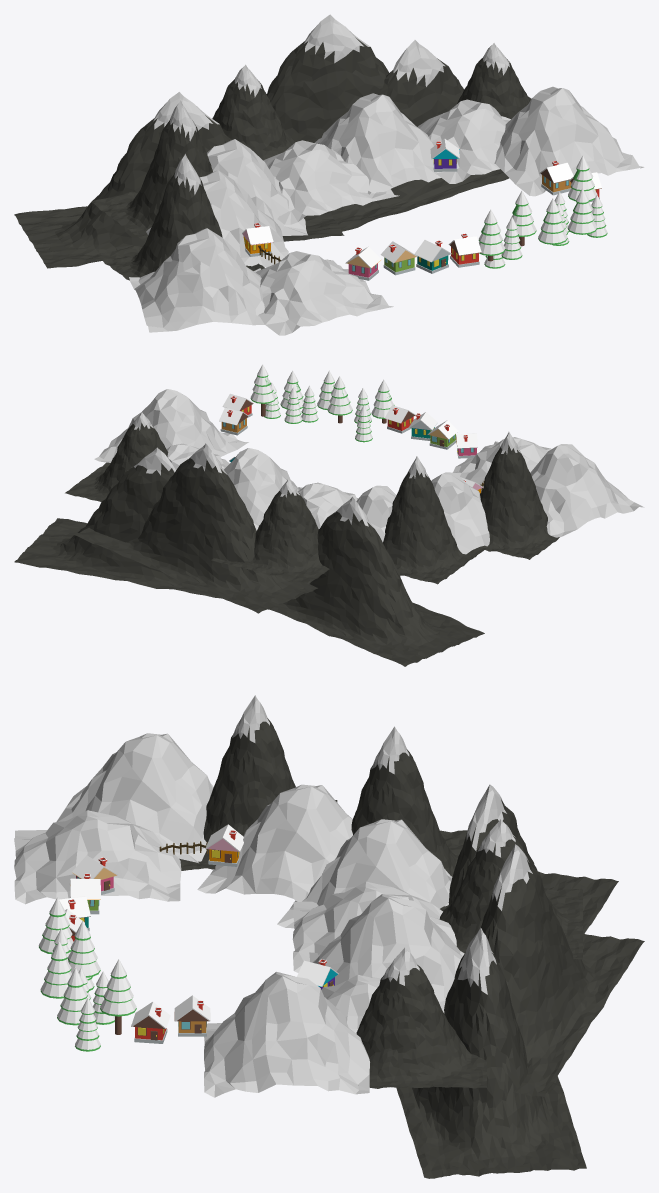
Rendered from Map_01.glb.
The picture shows the model from 3 angles, top to bottom: view 1: azimuth 30°, elevation 25°; view 2: azimuth 150°, elevation 25°; view 3: azimuth 270°, elevation 25°; orthographic projection. The views are drawn at different scales.
Visible parts, largest first — view 1: Plane.005, Plane.011, Plane.001, Plane.007, Plane.008, Plane.033, Plane.009, Plane.032, Plane.010, Plane.035, Plane.002, Plane.034 (+10 smaller); view 2: Plane.001, Plane.005, Plane.008, Plane.035, Plane.010, Plane.011, Plane.034, Plane.007, Plane.006, Plane.004, Plane.033, Plane.009 (+8 smaller); view 3: Plane.008, Plane.001, Plane.007, Plane.004, Plane.009, Plane.011, Plane.006, Plane.033, Plane.003, Plane.010, Plane.035, Plane.034 (+9 smaller).
Boxes of the visible parts, x1,y1,x2,y2 form: Plane.005: (14,92,344,268); Plane.011: (129,228,264,332); Plane.001: (266,14,388,142); Plane.007: (494,86,644,196); Plane.008: (330,40,508,231); Plane.033: (314,93,440,194); Plane.009: (256,251,393,335); Plane.032: (263,140,399,224); Plane.010: (95,154,264,280); Plane.035: (91,100,212,241); Plane.002: (417,99,510,183); Plane.034: (212,64,311,160); Plane.001: (73,443,317,613); Plane.005: (270,496,484,666); Plane.008: (14,447,222,598); Plane.035: (383,456,487,584); Plane.010: (479,432,559,559); Plane.011: (530,444,644,537); Plane.034: (211,479,329,583); Plane.007: (94,389,248,462); Plane.006: (431,472,489,554); Plane.004: (65,412,168,501); Plane.033: (224,448,299,530); Plane.009: (453,437,551,490); Plane.008: (396,927,586,1178); Plane.001: (481,844,644,1096); Plane.007: (204,971,369,1097); Plane.004: (356,947,486,1088); Plane.009: (14,810,181,904); Plane.011: (56,733,213,863); Plane.006: (197,784,352,901); Plane.033: (309,894,464,1010); Plane.003: (277,819,452,928); Plane.010: (179,695,337,870); Plane.035: (351,726,467,876); Plane.034: (439,819,582,959).
Size of what is drawn, in the model's own units: 58.28 by 16.79 by 45.98.
